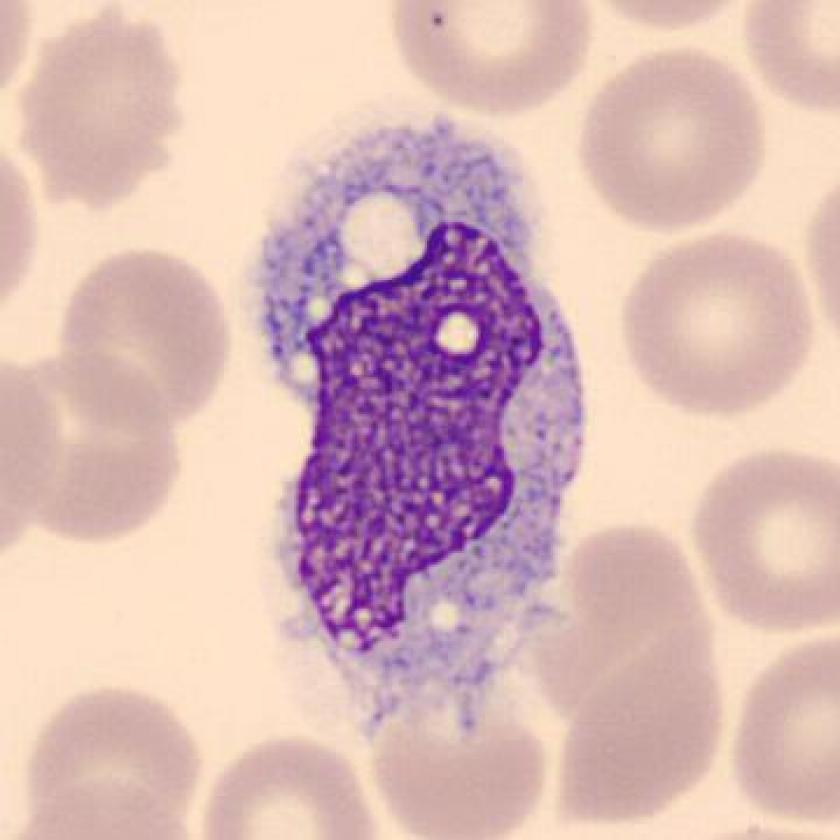monocyte: (230, 91, 605, 760)
